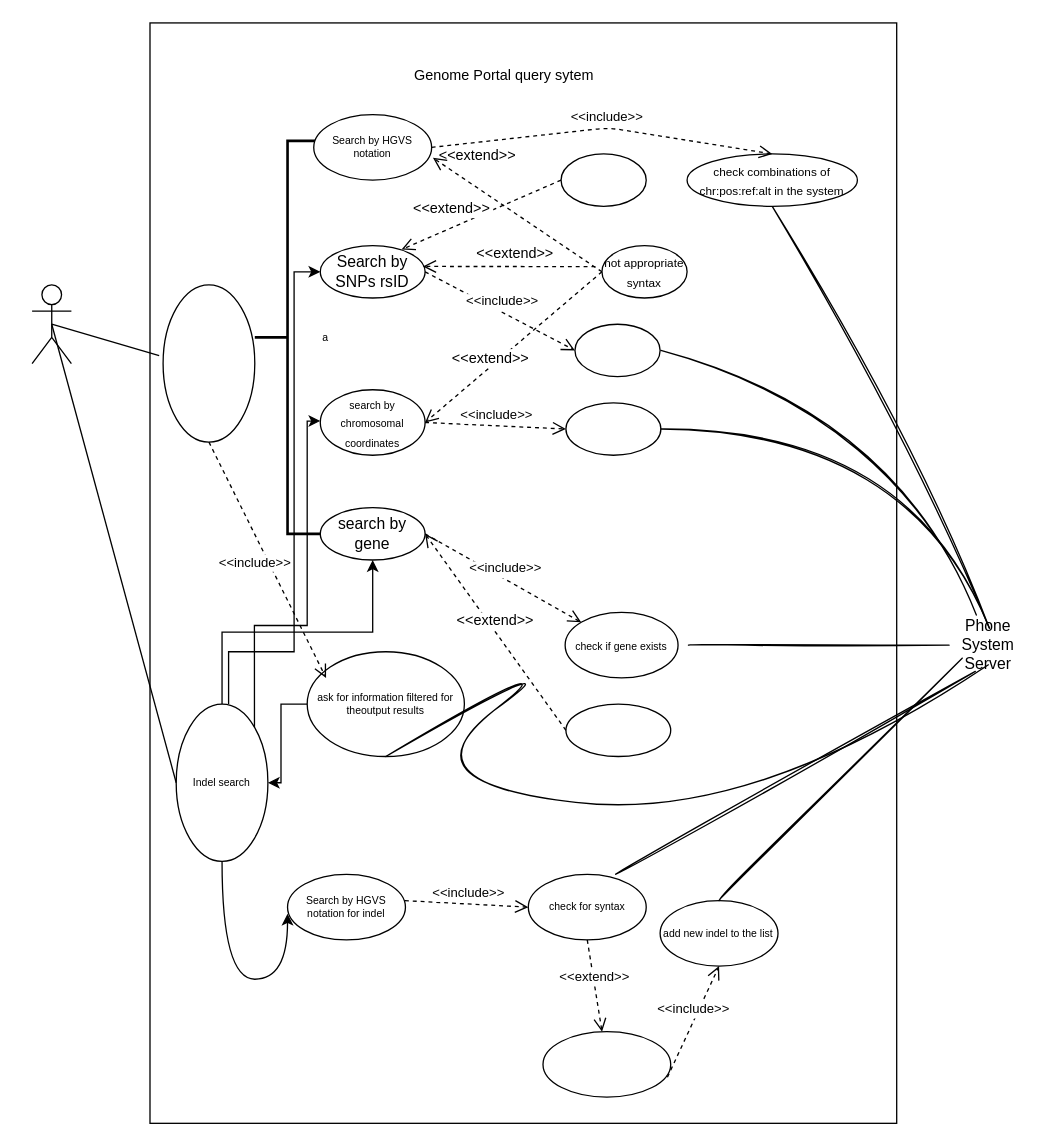
Image size: 1051x1146. Some labels were removed from this diagram. The shapes that lost their labels are listed below. From the top down, each one's centre as x and y in pixels, then its label:
the point at 603,179: no existing rsID
the point at 51,324: Biologist
the point at 208,363: SNPs/ search
the point at 617,350: check rsID in the system
the point at 613,428: check if range is in valid format
the point at 618,730: gene doesnt exist
the point at 606,1063: valid syntax, but new Indel
